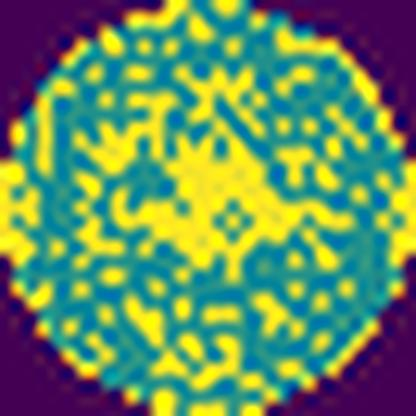Center: (71, 90, 356, 282)
